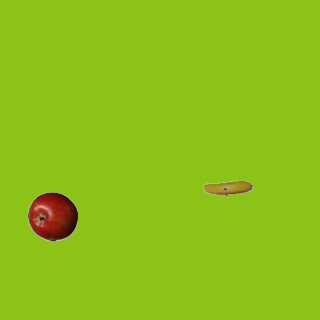Apple Braeburn: (27, 191, 77, 241)
Banana: (202, 163, 252, 213)
